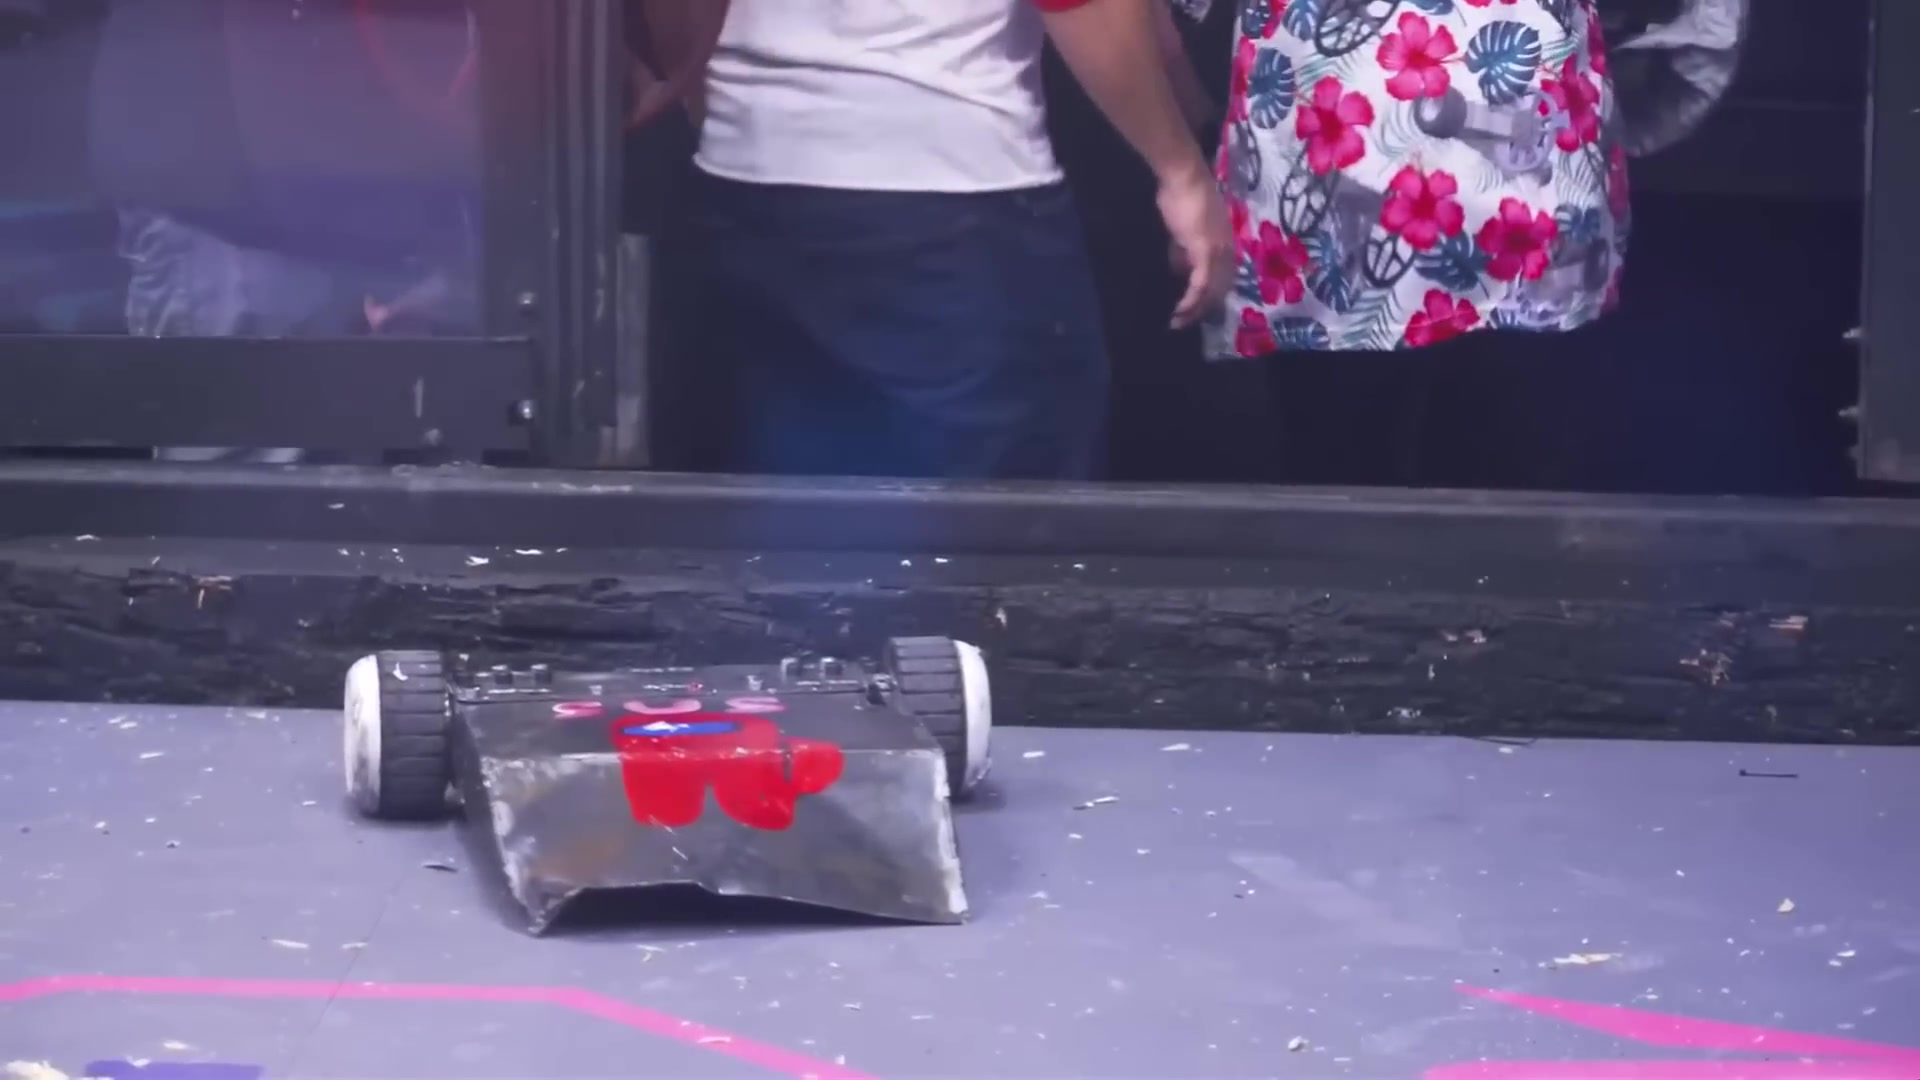combatbot: (343, 633, 1026, 942)
